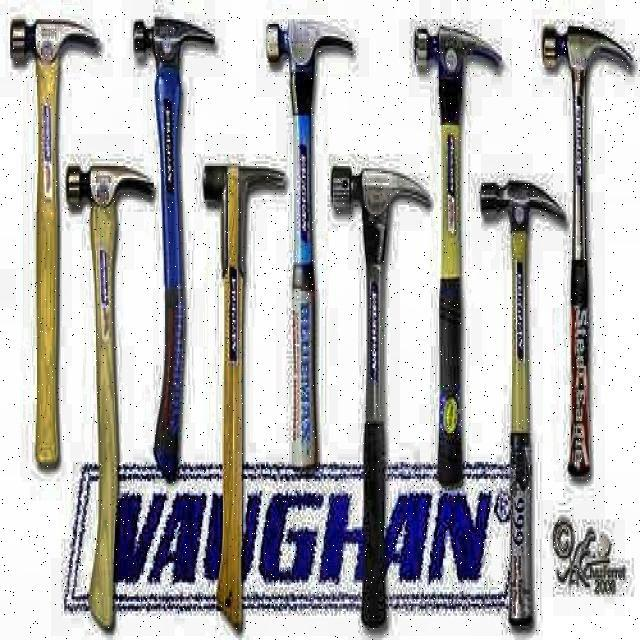hammer: (332, 156, 432, 630), (67, 158, 155, 632), (542, 21, 632, 478), (10, 17, 101, 467), (203, 159, 287, 630), (480, 176, 567, 627), (133, 12, 216, 482), (267, 17, 353, 460)
